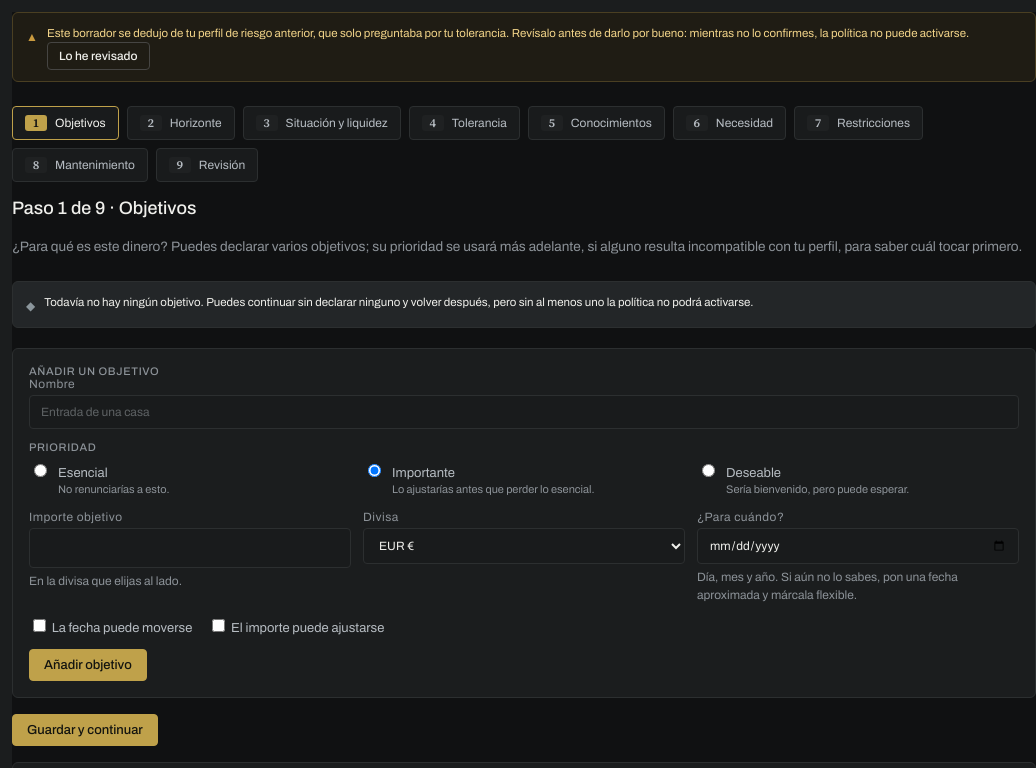
Scenario: IpsWizard · borrador derivado del perfil antiguo › avisa de que hay que revisarlo y deja confirmarlo
Expected: the text "se dedujo de tu perfil de riesgo anterior" is shown, [47,27,969,39]
Click the button "Lo he revisado". click: (98,56)
box: [47,42,150,70]
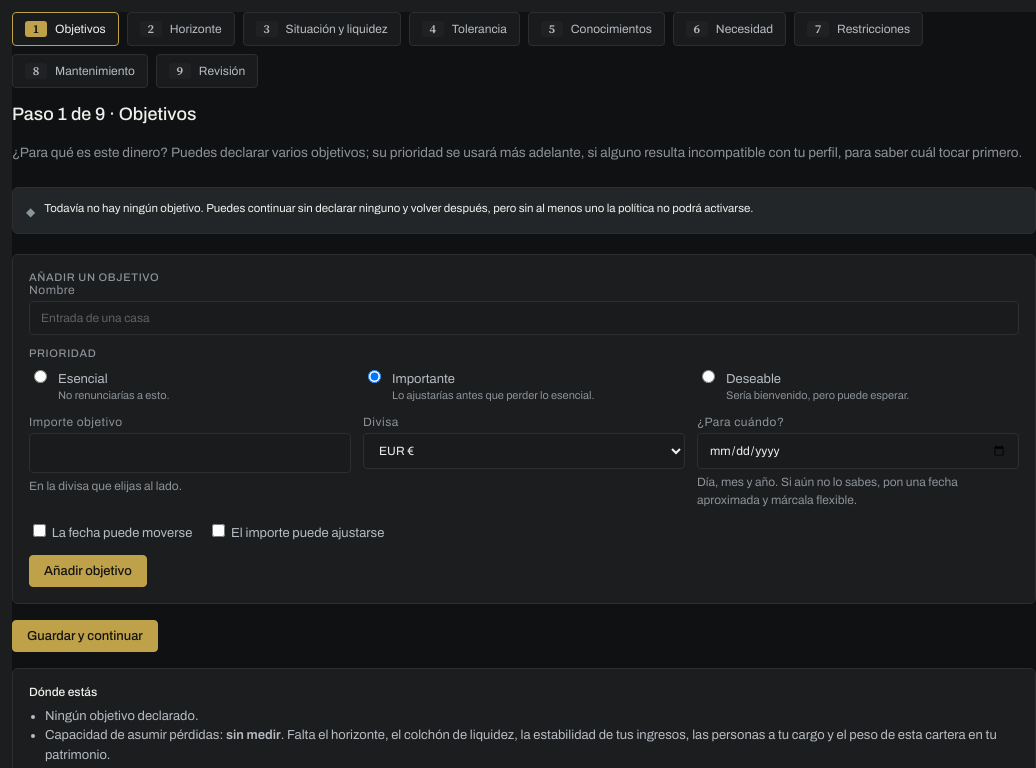
Expected: the text "se dedujo de tu perfil de riesgo anterior" is gone
